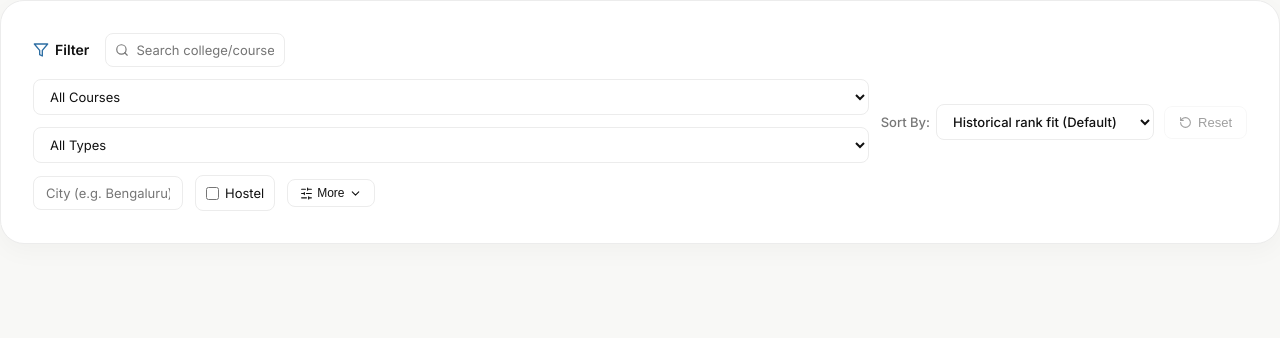
it: Prediction FiltersPanel › expands More filters, updates advanced filters and Reset restores defaults
Click the button "More" at {"x": 331, "y": 193}, box [287,179,374,207]
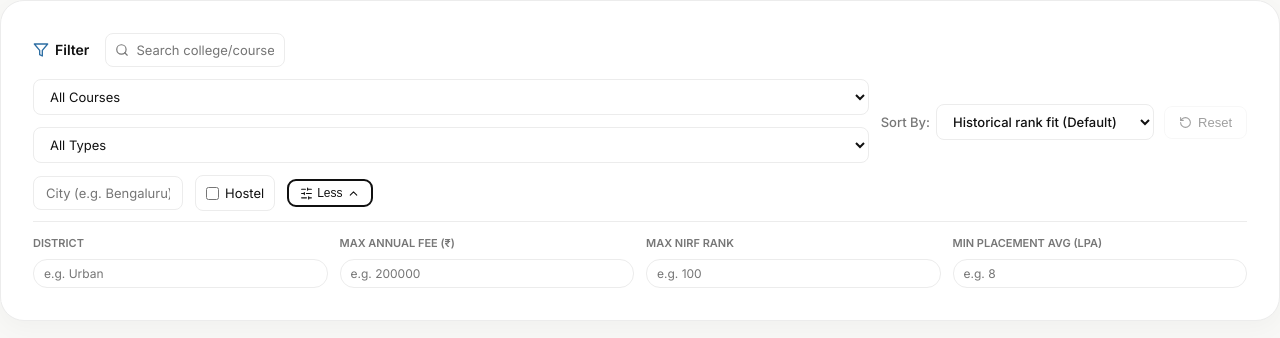
Expected: the field named "District" is shown
Type "Bagalkote" into the field named "District" at {"x": 180, "y": 273}, box [33,259,328,288]
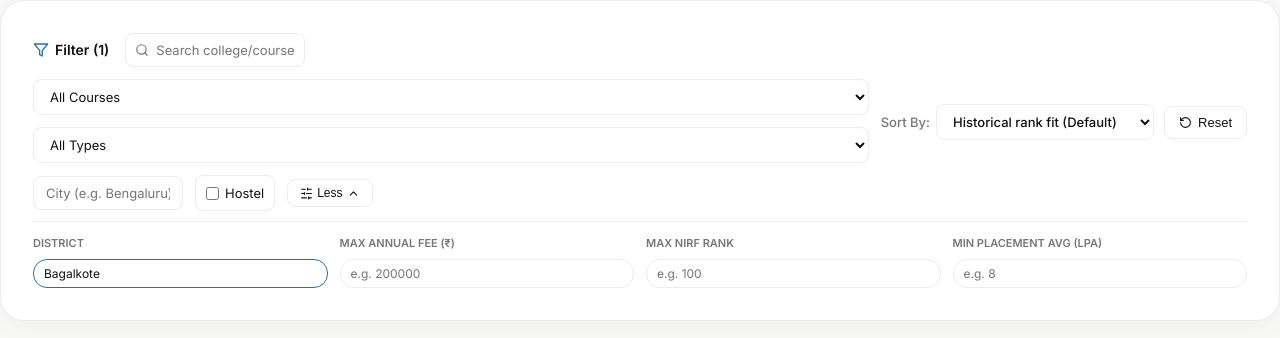
Select "Lowest Annual Fee" in the dropdown named "sort order" at {"x": 1045, "y": 122}, box [936,104,1154,140]
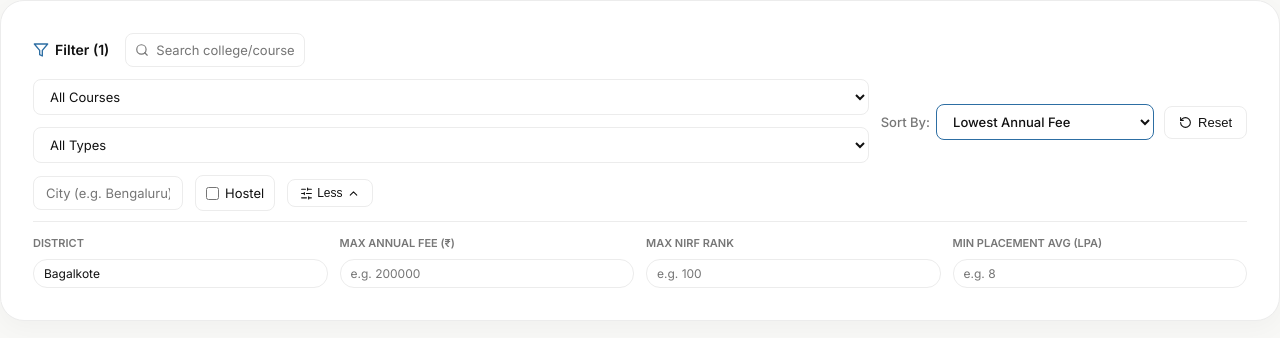
Click the button "Reset" at {"x": 1206, "y": 122}, box [1164,106,1247,138]
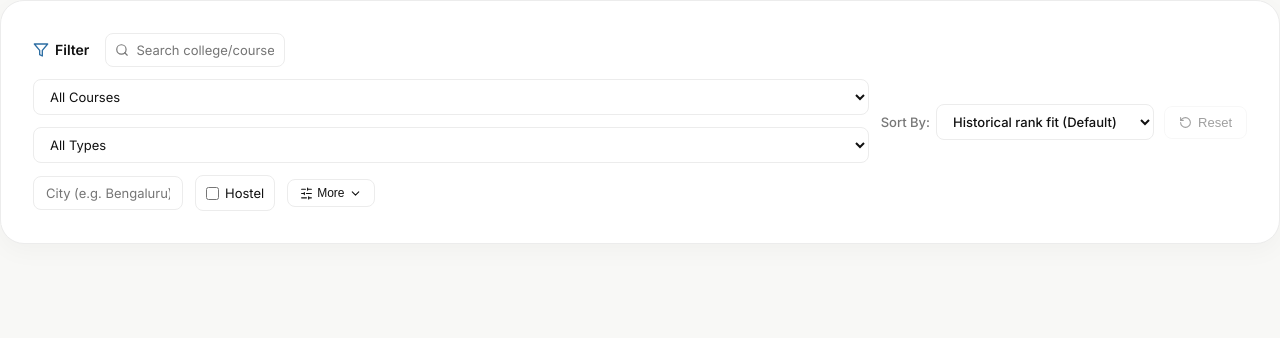
Expected: the text "Filter" is shown, [55,38,89,62]
Expected: the label labelled "District" is gone
